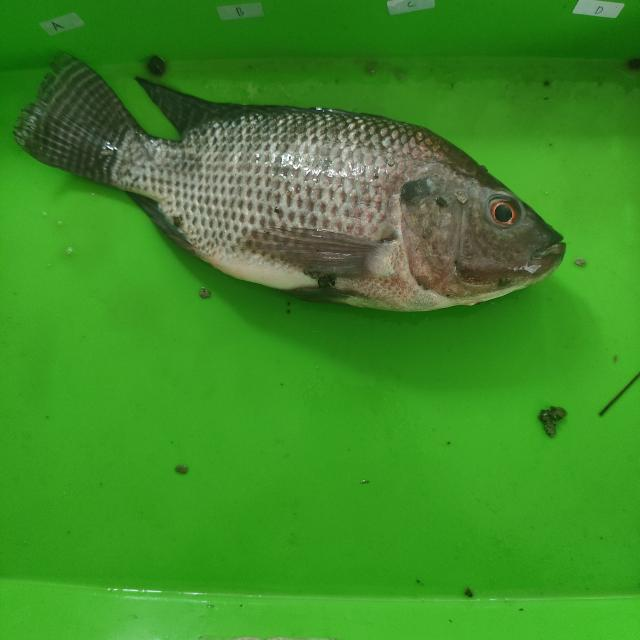Fresh: (29, 48, 418, 325), (441, 164, 533, 248)
